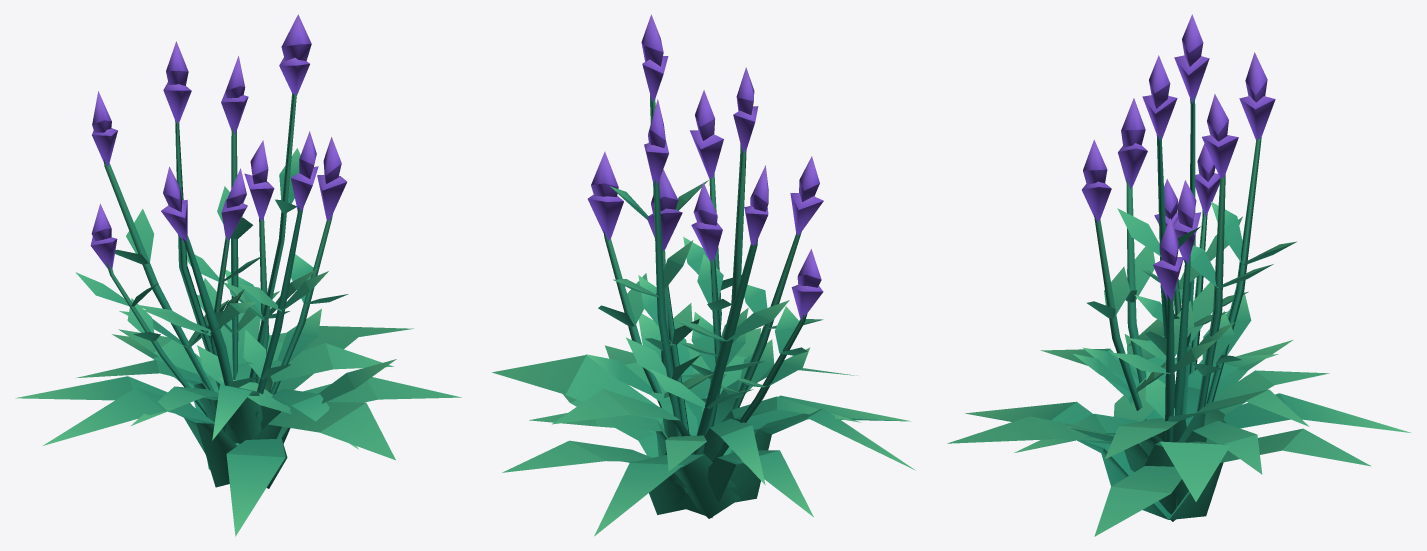
Rendered from LavenderSprout03.glb.
3 renders of one model, left to right at view 1: azimuth 30°, elevation 25°; view 2: azimuth 150°, elevation 25°; view 3: azimuth 270°, elevation 25°, orthographic. The views are drawn at different scales.
Visible parts, largest first — view 1: LavenderSprout03; view 2: LavenderSprout03; view 3: LavenderSprout03.
Boxes of the visible parts, left/top/right/bottom form: LavenderSprout03: left=15, top=14, right=461, bottom=536; LavenderSprout03: left=492, top=14, right=915, bottom=536; LavenderSprout03: left=947, top=14, right=1410, bottom=536.
Size of the model in its own units: 1.86 by 2.08 by 1.84.
1 material, 1 textured.
